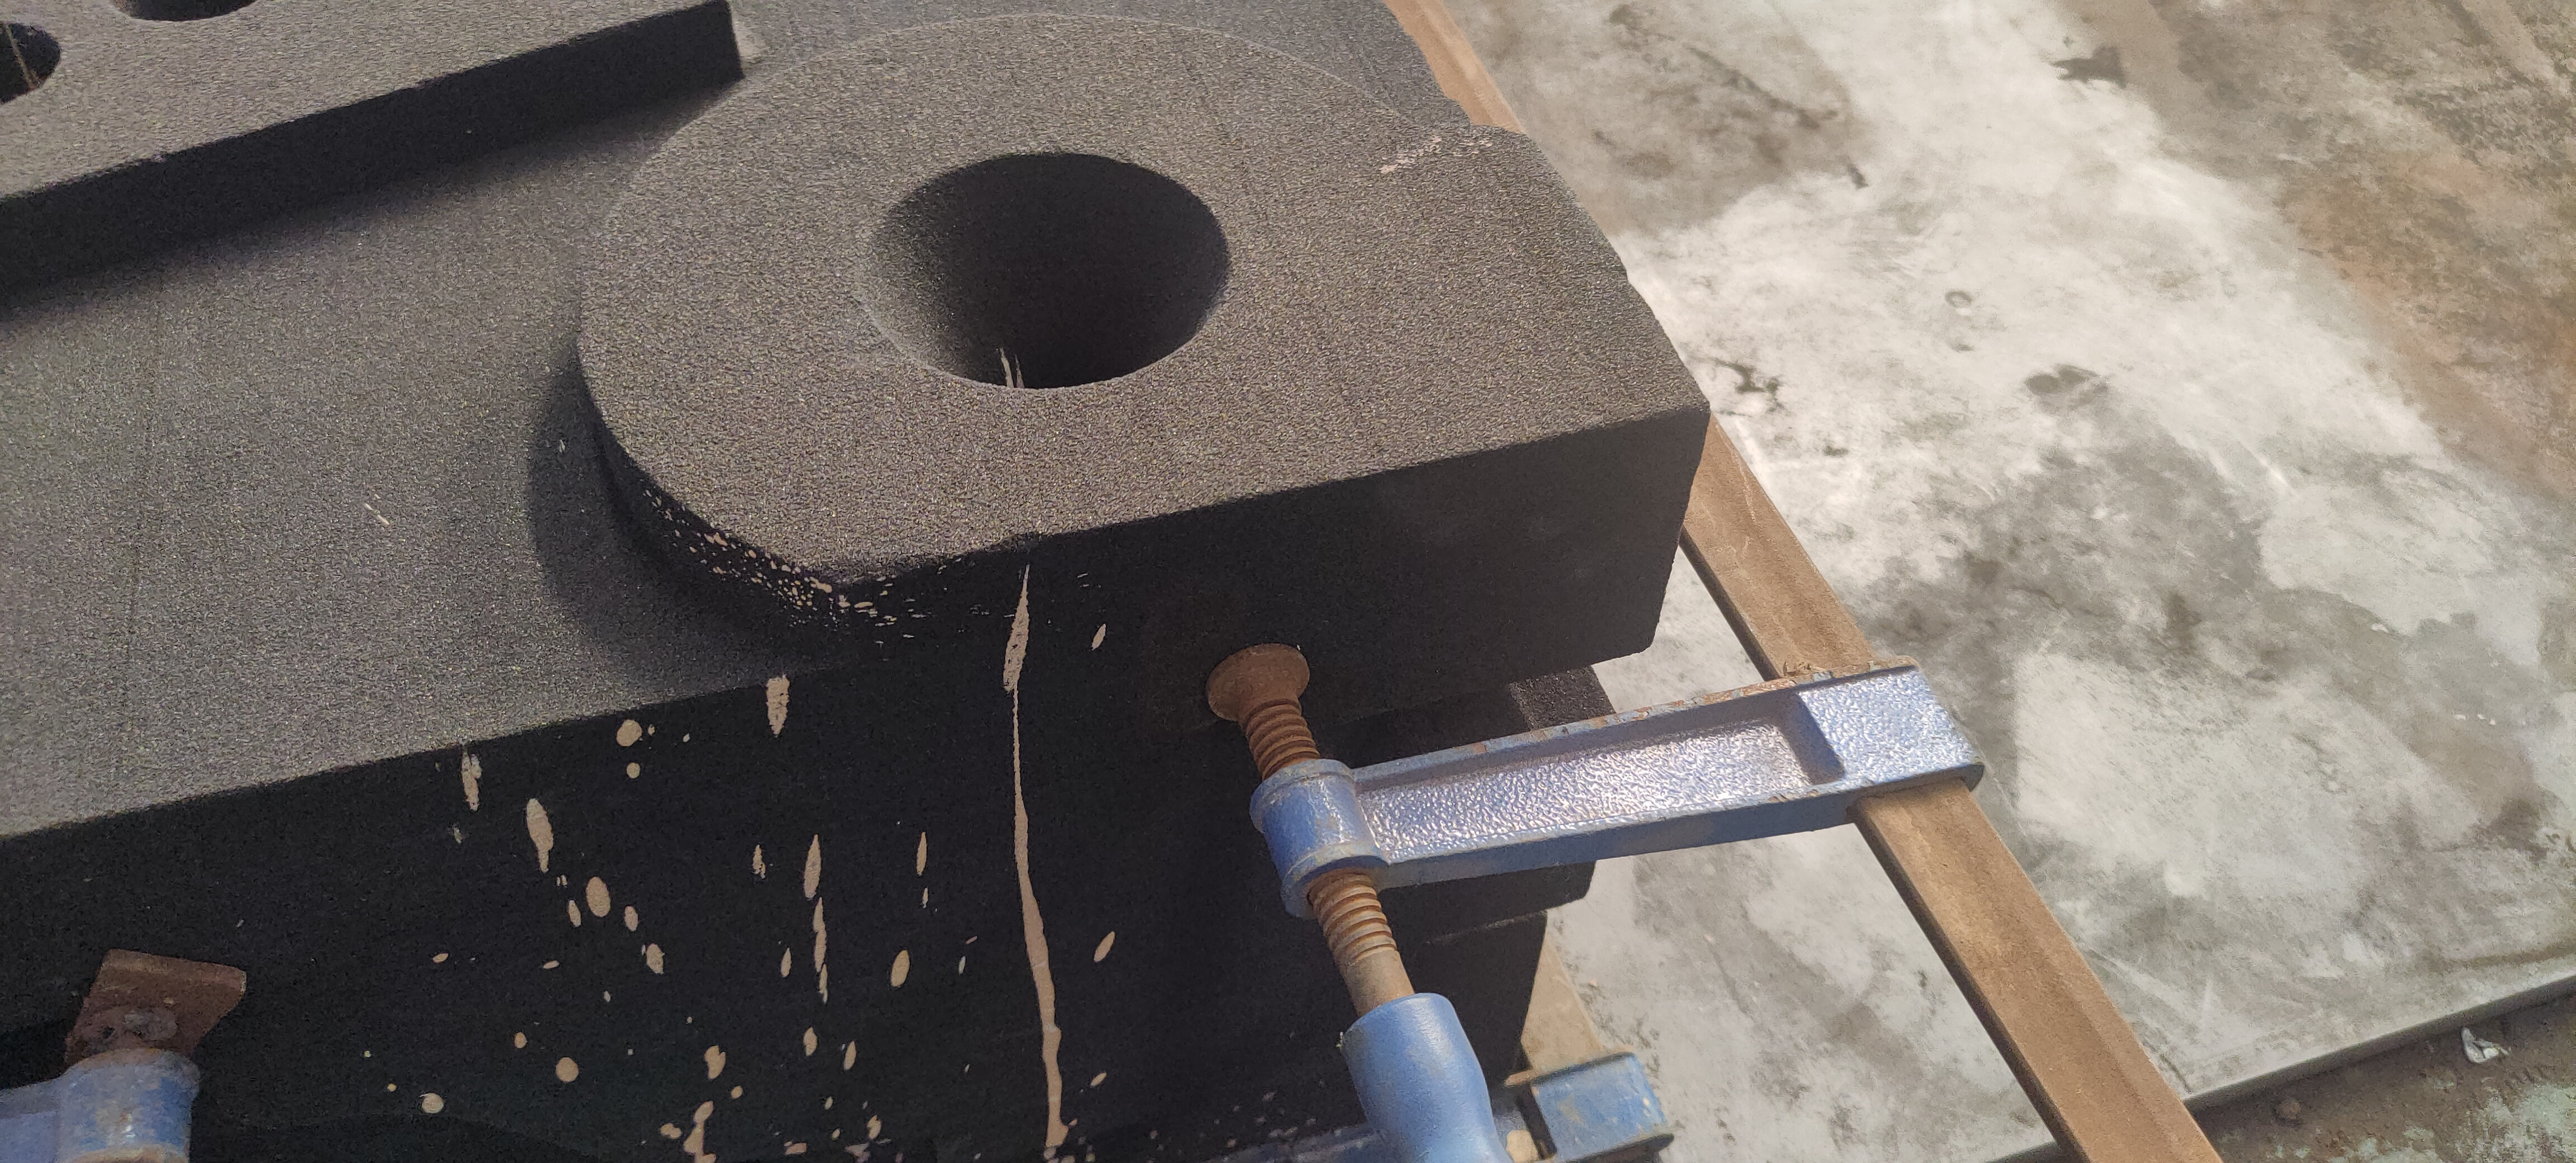pouring hole: (851, 149, 1234, 391)
